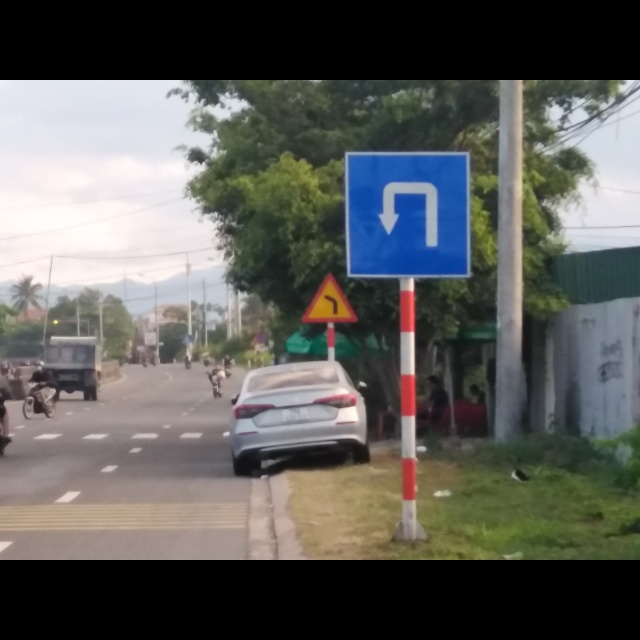Khu vực quay đầu xe: (345, 147, 472, 279)
